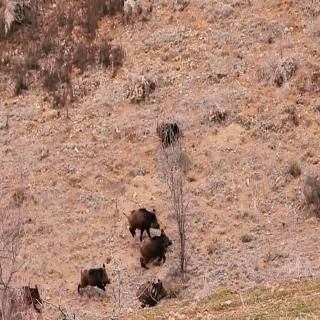Pig: (130, 227, 184, 284), (123, 197, 168, 243), (77, 255, 117, 299), (12, 278, 48, 308)
